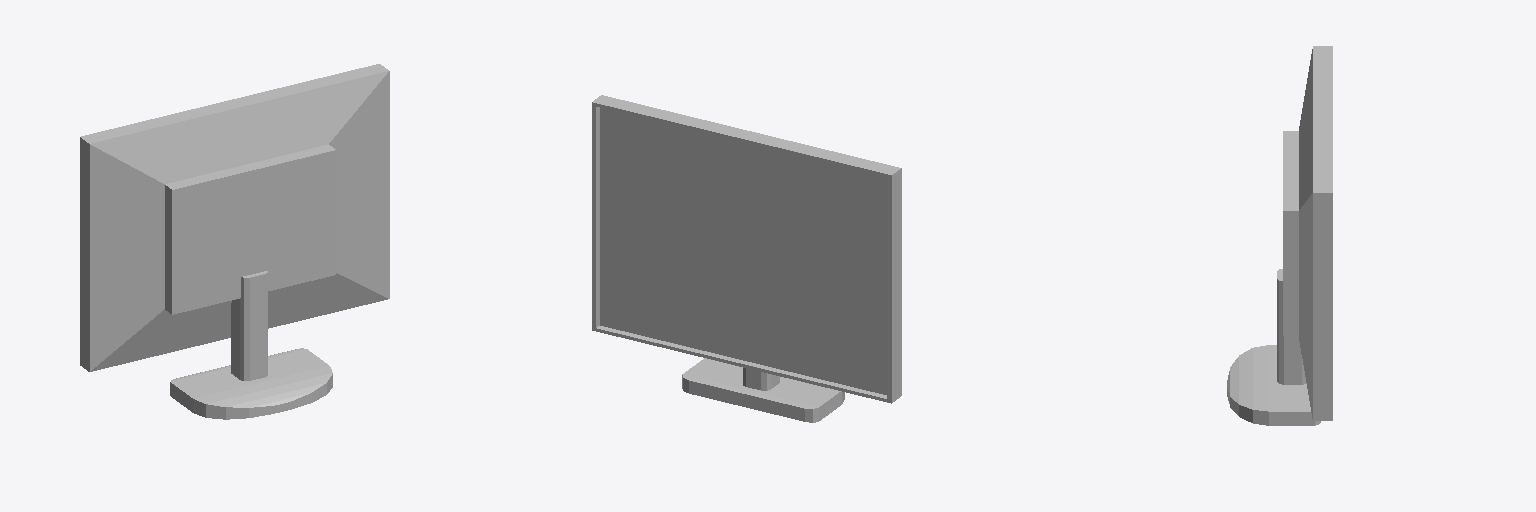
Rendered from monitor.obj.
3 views of the same model, side by side, from view 1: azimuth 30°, elevation 25°; view 2: azimuth 150°, elevation 25°; view 3: azimuth 270°, elevation 25° (orthographic).
Parts seen in each view (by area): view 1: screen_立方体.002, dodai_立方体.002_立方体.001; view 2: screen_立方体.002, dodai_立方体.002_立方体.001; view 3: screen_立方体.002, dodai_立方体.002_立方体.001.
Boxes of the visible parts, box(x1,y1,x2,y2) form: screen_立方体.002: box(80, 64, 389, 371); dodai_立方体.002_立方体.001: box(170, 271, 332, 419); screen_立方体.002: box(592, 95, 901, 403); dodai_立方体.002_立方体.001: box(682, 358, 844, 422); screen_立方体.002: box(1283, 46, 1332, 420); dodai_立方体.002_立方体.001: box(1227, 269, 1320, 425).
Size of the model in its own units: 0.6875 by 0.5981 by 0.2091.